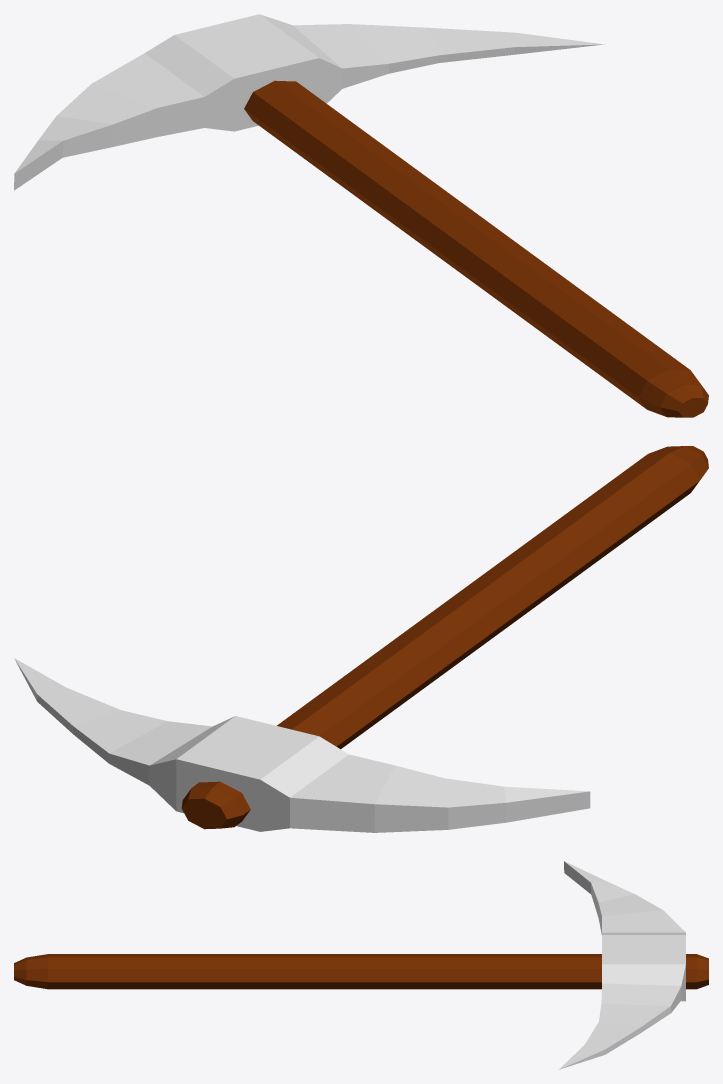
File: pickaxe.fbx
The picture shows the model from 3 angles, top to bottom: view 1: azimuth 30°, elevation 25°; view 2: azimuth 150°, elevation 25°; view 3: azimuth 270°, elevation 25°; orthographic projection. The views are drawn at different scales.
Visible parts, largest first — view 1: Head, Handle; view 2: Head, Handle; view 3: Handle, Head.
Boxes of the visible parts, bbox=[...] form: Head: bbox=[14, 14, 604, 190]; Handle: bbox=[244, 80, 708, 417]; Head: bbox=[14, 658, 590, 832]; Handle: bbox=[181, 446, 708, 829]; Handle: bbox=[14, 954, 708, 989]; Head: bbox=[559, 861, 685, 1069].
Bounding box in the file's own units: 94.7 × 8.18 × 138.
